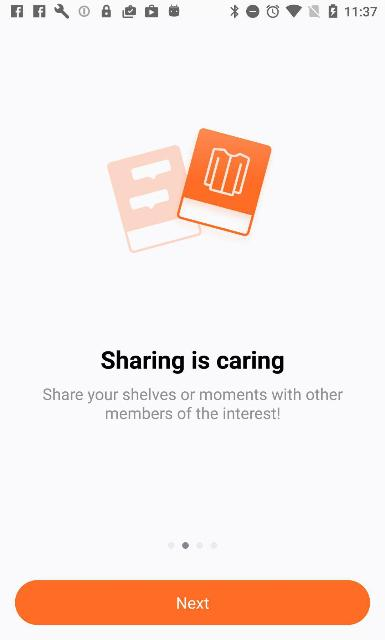Image: (107, 126, 272, 254)
PageIndicator: (167, 542, 217, 548)
Text: (42, 386, 344, 419), (100, 350, 284, 374), (177, 597, 208, 609)
TextButton: (15, 580, 370, 624)
UpperTaskBar: (0, 0, 384, 22)
